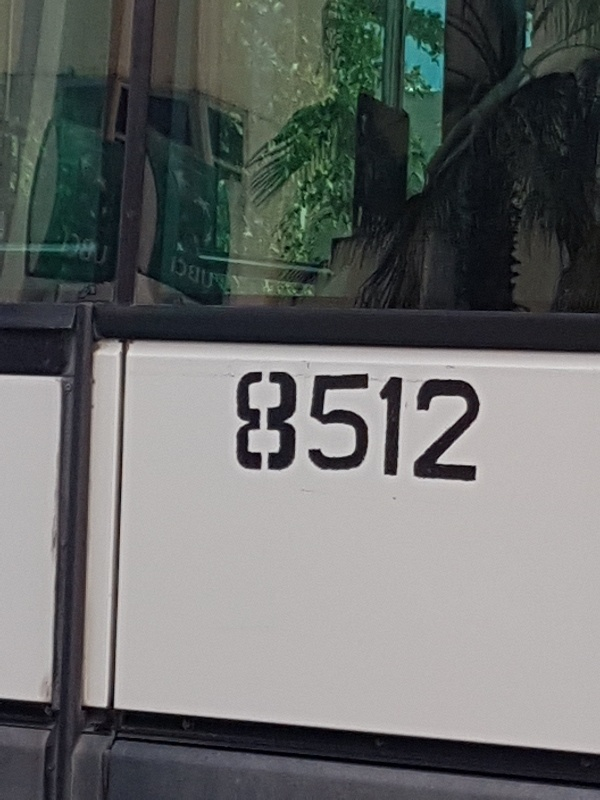text: (465, 370, 481, 482), (241, 370, 256, 482), (257, 370, 272, 482), (273, 370, 288, 482), (289, 370, 304, 482), (305, 370, 320, 482), (321, 370, 336, 482), (337, 370, 352, 482), (353, 370, 368, 482), (369, 370, 384, 482), (385, 370, 400, 482), (401, 370, 416, 482), (417, 370, 432, 482), (433, 370, 448, 482), (449, 370, 464, 482), (65, 223, 80, 272), (81, 223, 96, 272), (97, 223, 112, 272), (177, 254, 192, 294), (193, 254, 208, 294), (237, 370, 240, 482), (168, 254, 176, 294), (209, 254, 217, 294), (60, 223, 64, 272), (113, 223, 117, 272)
